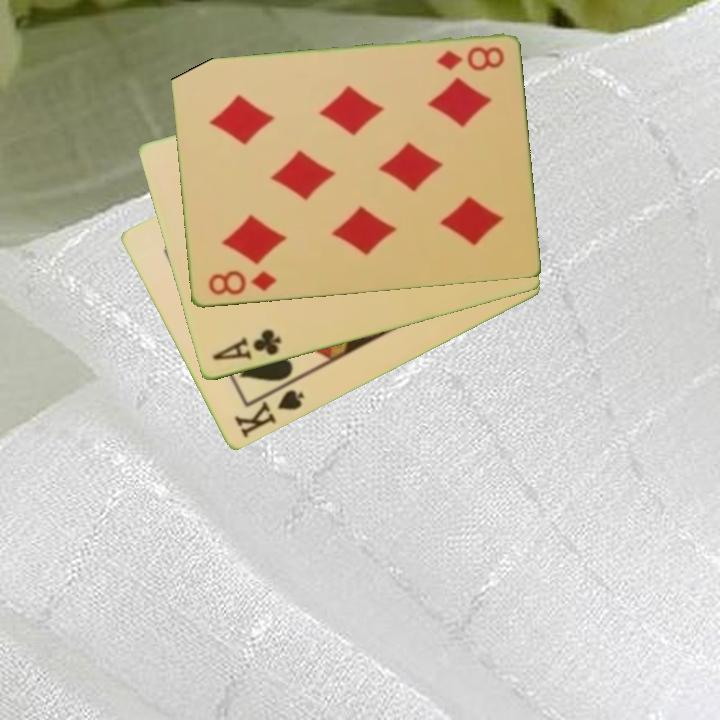8d: (205, 267, 279, 299), (433, 43, 507, 74)
Ac: (208, 325, 284, 364)
Ks: (230, 378, 307, 441)
